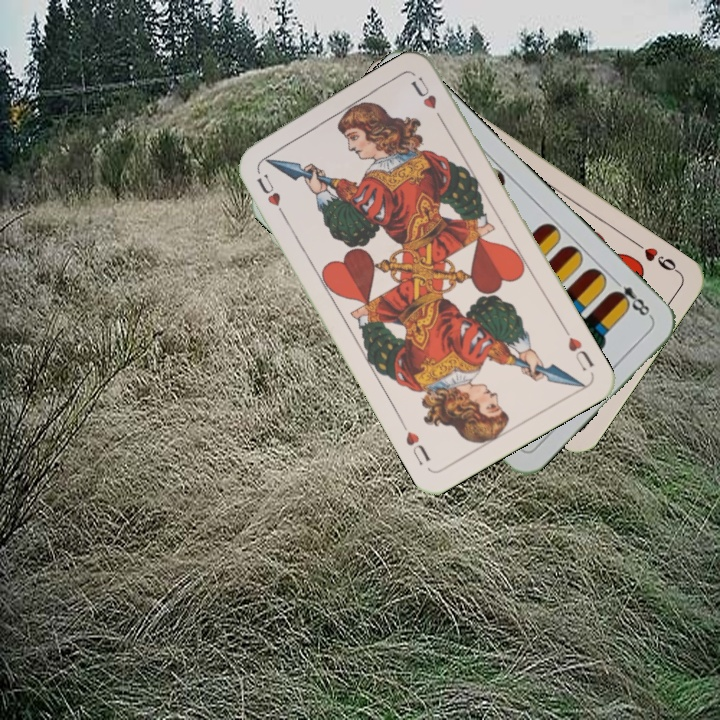E8: (608, 274, 655, 321)
H9: (631, 237, 683, 277)
HU: (559, 323, 597, 373), (252, 170, 288, 220)
